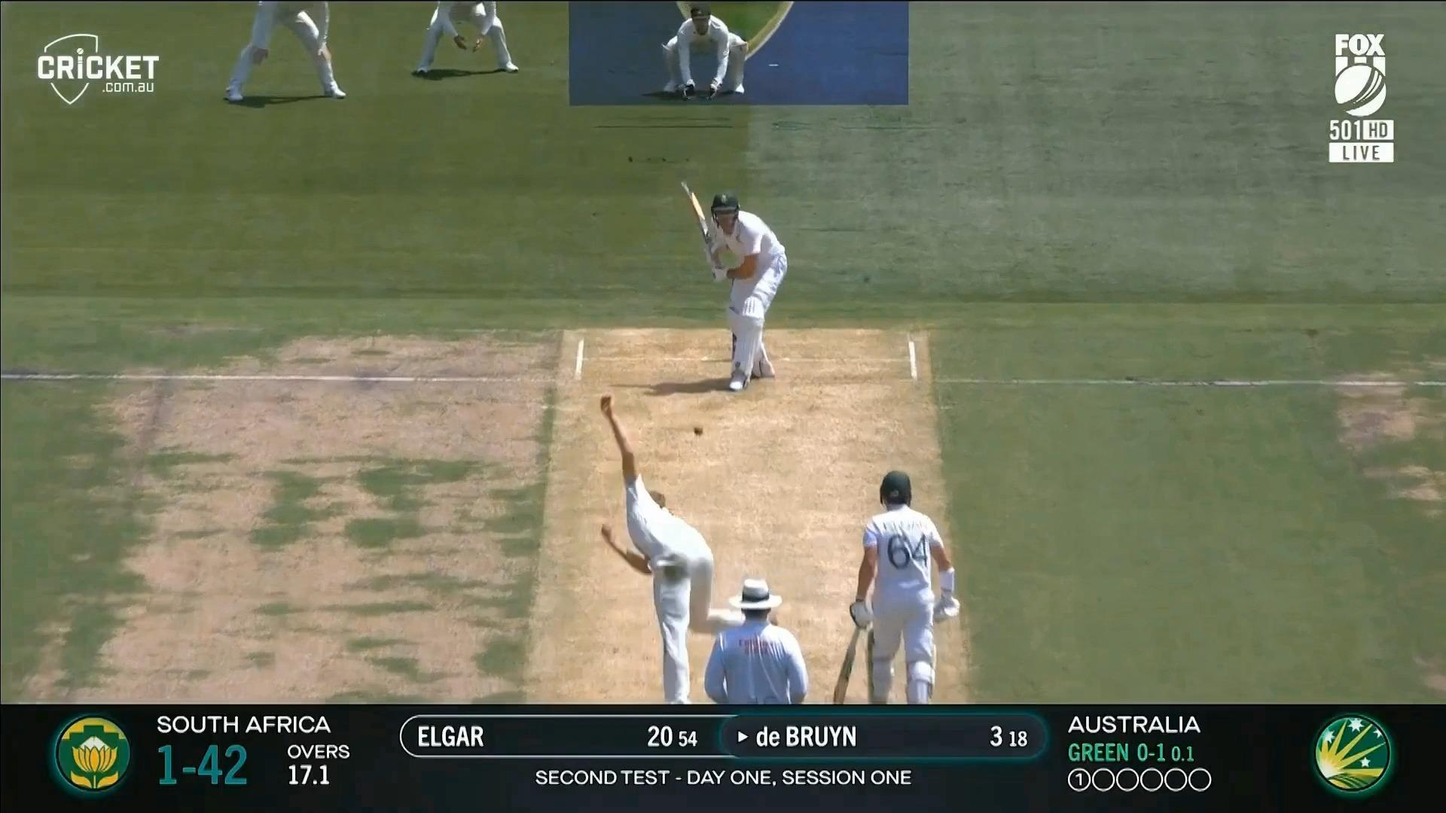BM 1: (680, 181, 788, 392)
BO: (597, 392, 785, 727)
